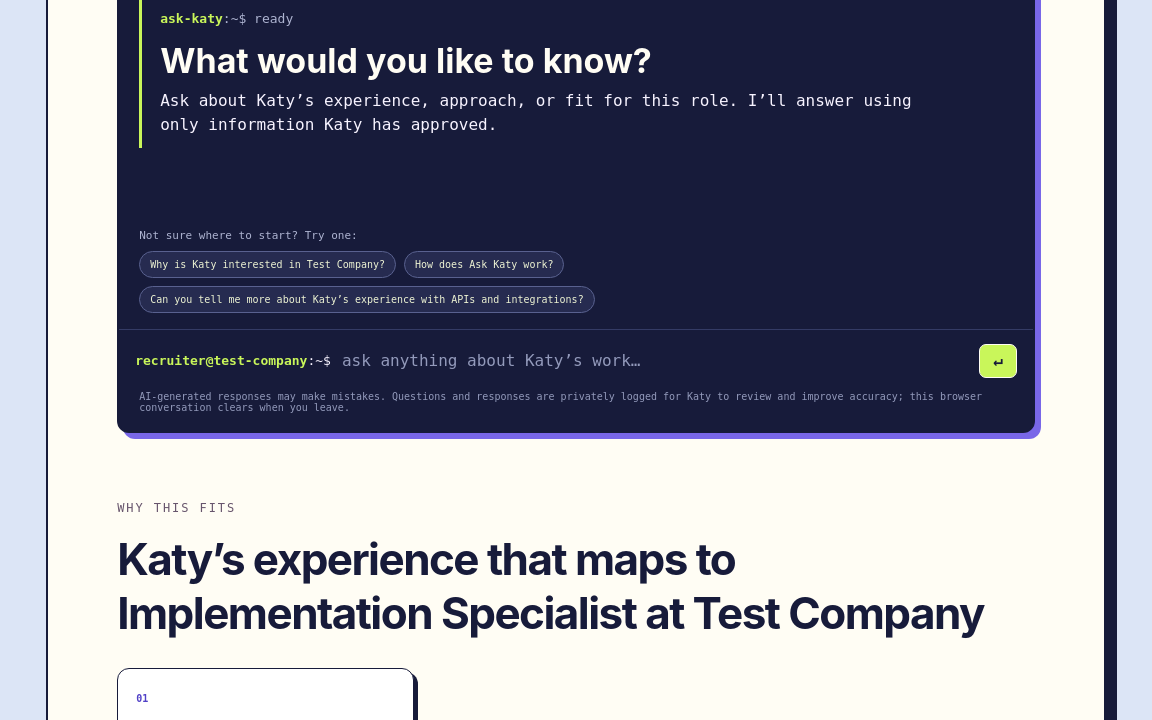
submits a suggested question immediately
(page scrolled)
Click the button "How does Ask Katy work?": {"x": 484, "y": 265} [404,252,564,278]
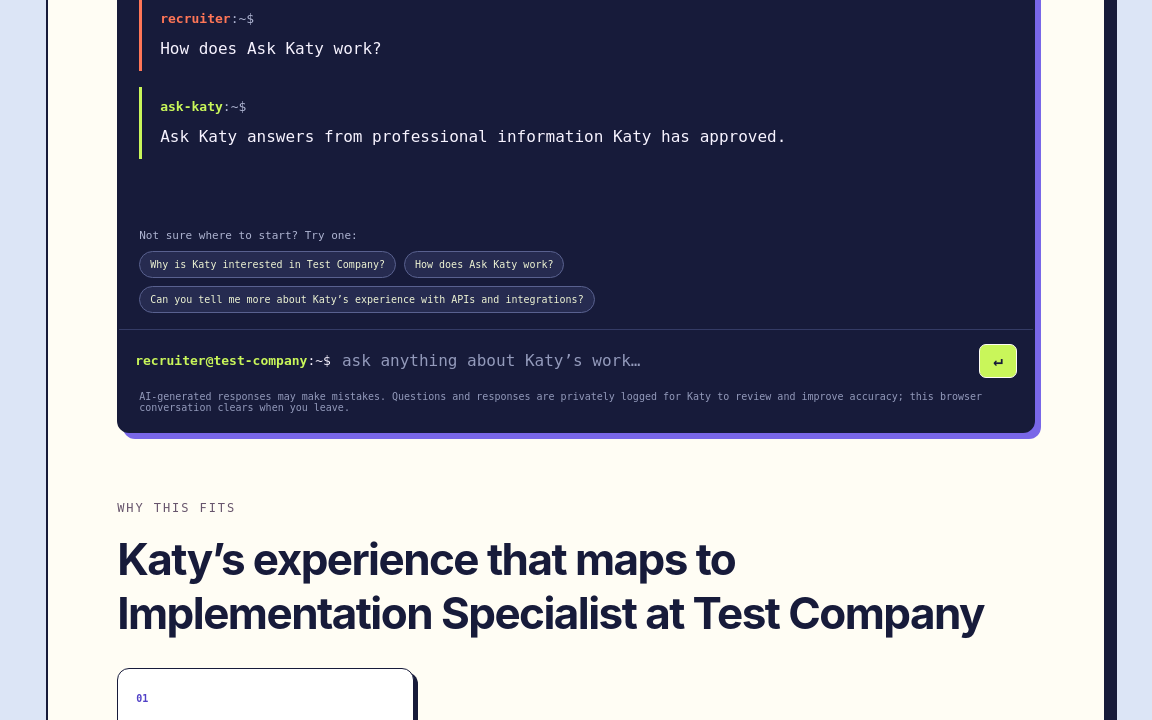
Expected: the field with placeholder "ask anything about Katy’s work…" is empty, [340,350,970,372]
Result: the text "Ask Katy answers from professional information Katy has approved." is shown at [160,127,786,146]
